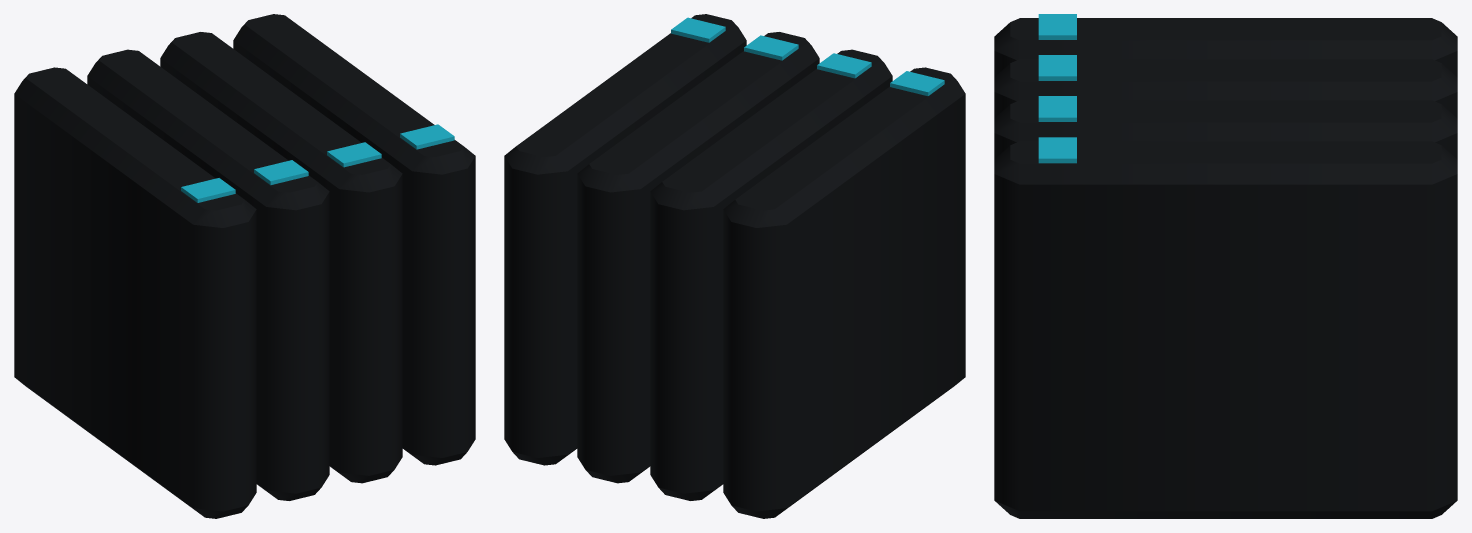
Rendered from mcc1_memory.obj.
3 renders of one model, left to right at view 1: azimuth 30°, elevation 25°; view 2: azimuth 150°, elevation 25°; view 3: azimuth 270°, elevation 25°, orthographic. The views are drawn at different scales.
Visible parts, largest first — view 1: mcc1_memory; view 2: mcc1_memory; view 3: mcc1_memory.
Part boxes in pixels (x1,y1,x2,y2): mcc1_memory: [14, 14, 475, 518]; mcc1_memory: [504, 14, 965, 518]; mcc1_memory: [994, 14, 1457, 518].
Size of the model in its own units: 0.5925 by 0.626 by 0.73.
